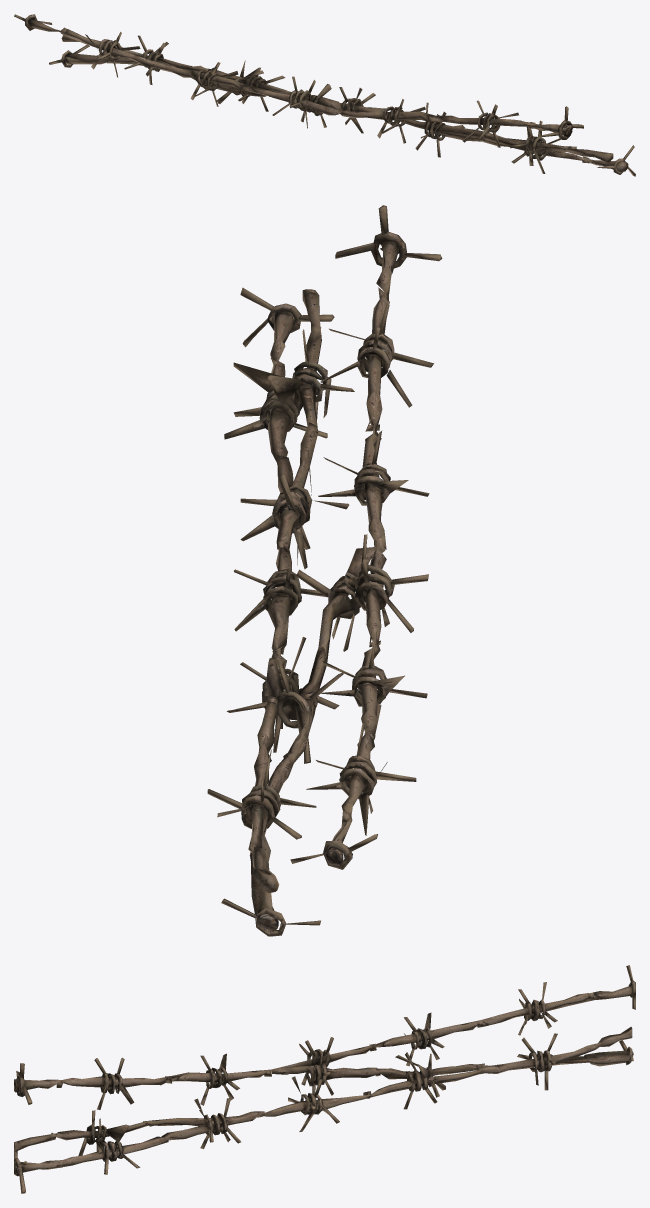
Rendered from barbed wire piece 3d model_v2.glb.
3 renders of one model, top to bottom at view 1: azimuth 30°, elevation 25°; view 2: azimuth 150°, elevation 25°; view 3: azimuth 270°, elevation 25°, orthographic. The views are drawn at different scales.
Visible parts, largest first — view 1: tripo_node_eca8cbcb-6f3f-47e7-81c1-2c113cfba957; view 2: tripo_node_eca8cbcb-6f3f-47e7-81c1-2c113cfba957; view 3: tripo_node_eca8cbcb-6f3f-47e7-81c1-2c113cfba957.
Part boxes in pixels (bbox=[...]): tripo_node_eca8cbcb-6f3f-47e7-81c1-2c113cfba957: bbox=[14, 14, 635, 176]; tripo_node_eca8cbcb-6f3f-47e7-81c1-2c113cfba957: bbox=[207, 205, 442, 936]; tripo_node_eca8cbcb-6f3f-47e7-81c1-2c113cfba957: bbox=[14, 965, 635, 1193].
Size of the model in its own units: 0.6973 by 0.2129 by 0.998.
1 material, 1 textured.
